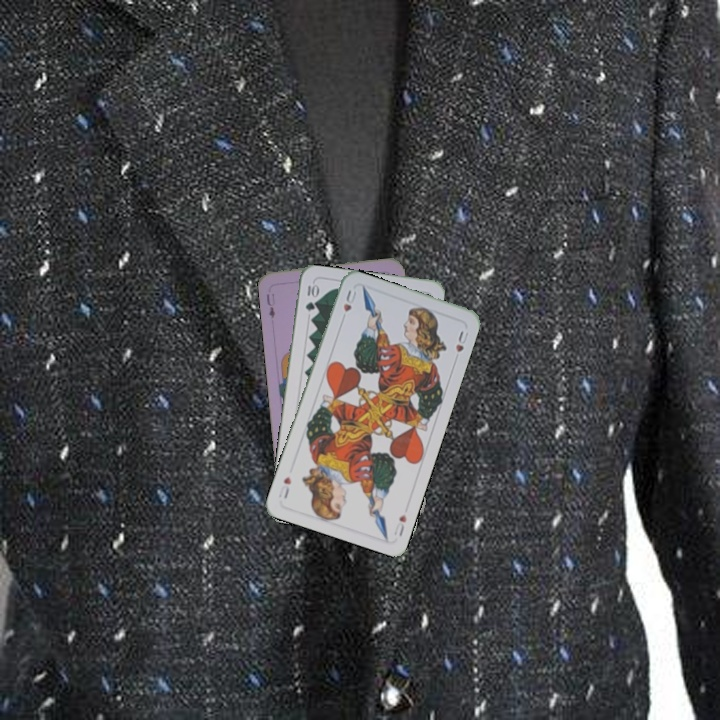EU: (262, 290, 277, 321)
G10: (301, 280, 319, 314)
HU: (339, 286, 359, 314), (390, 510, 409, 539)
